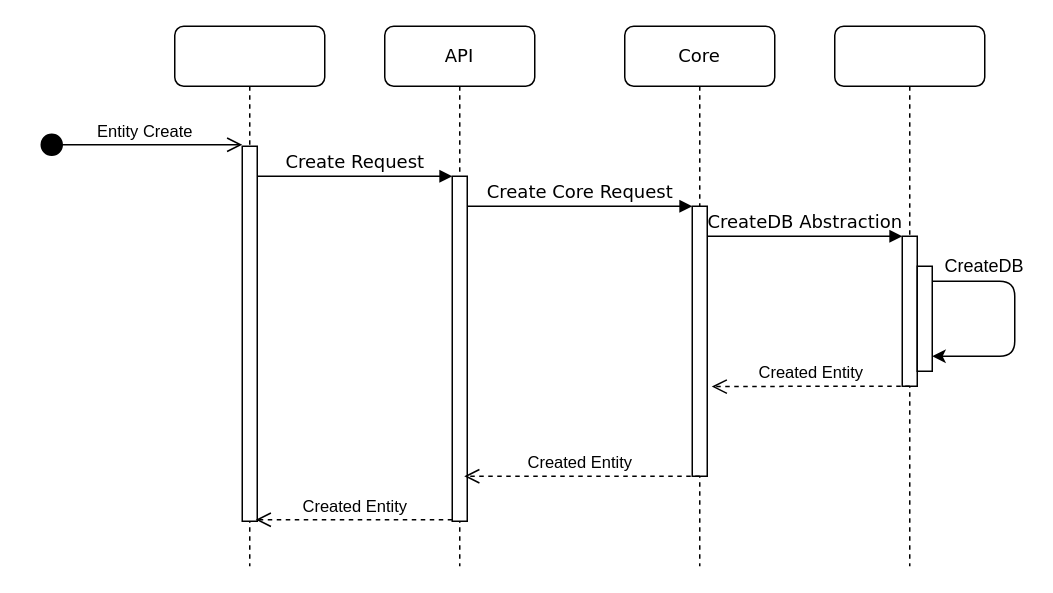
The diagram is 1053 pixels wide and 593 high, and some of its shapes have lost their labels. Each missing label, with the box of its shape:
Data Base: (833, 25, 985, 566)
Redux Layer: (173, 25, 325, 566)
